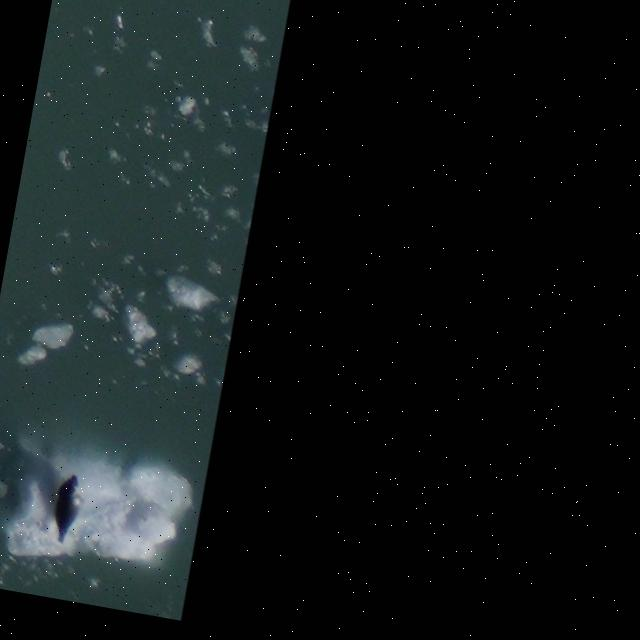seal: (48, 468, 92, 550)
